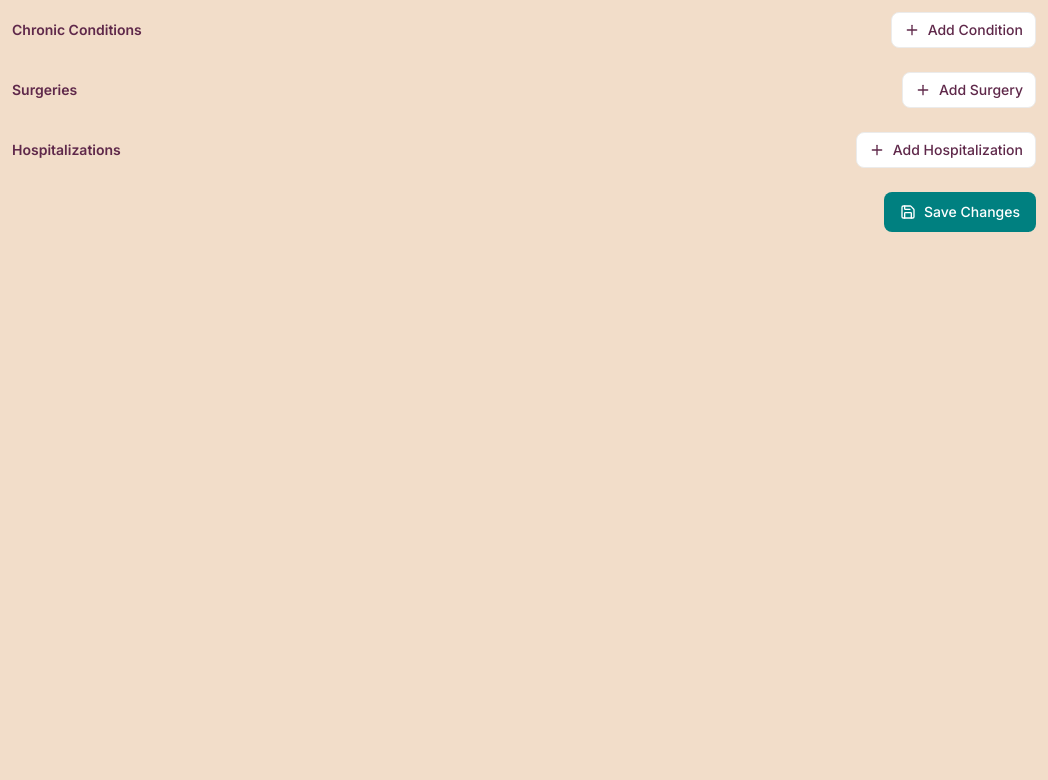
Scenario: MedicalHistoryForm › Hospitalizations › should add a new hospitalization
This screenshot has width=1048, height=780.
Click the button "Add Hospitalization" at (946, 150), box 856,132 -> 1036,168
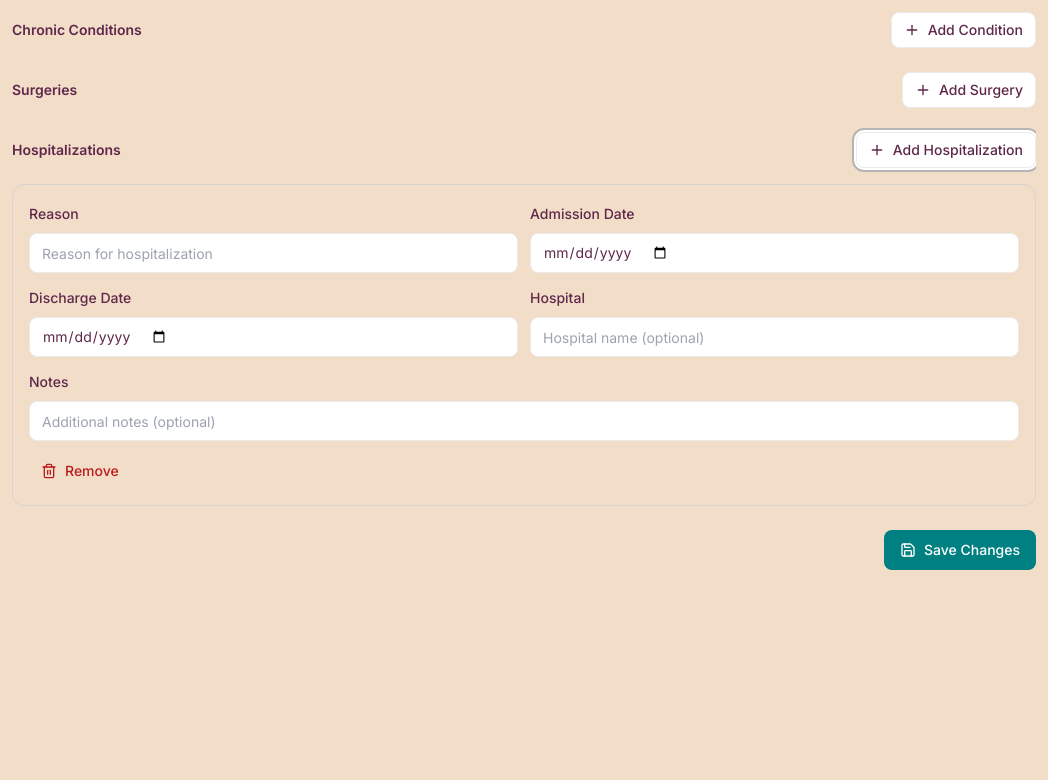
Check: the field with placeholder "Reason for hospitalization" is shown, box 29,233 -> 518,273
Check: the field with placeholder "Hospital name (optional)" is shown, box 530,317 -> 1019,357
